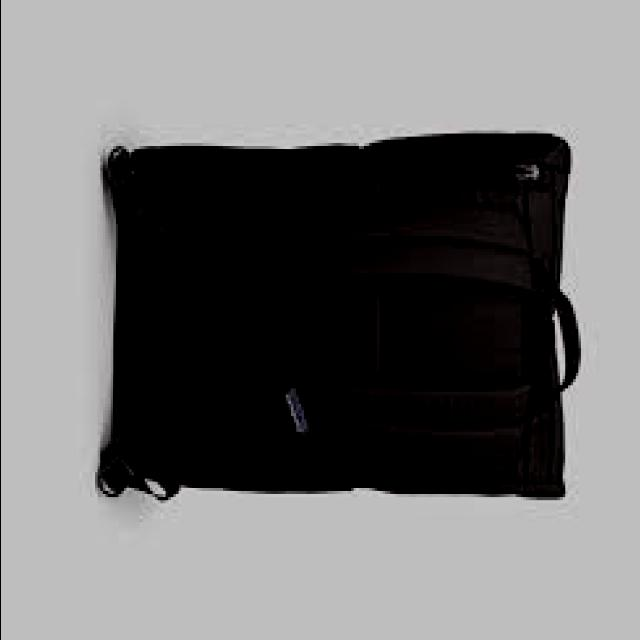backpack: (98, 132, 584, 502)
